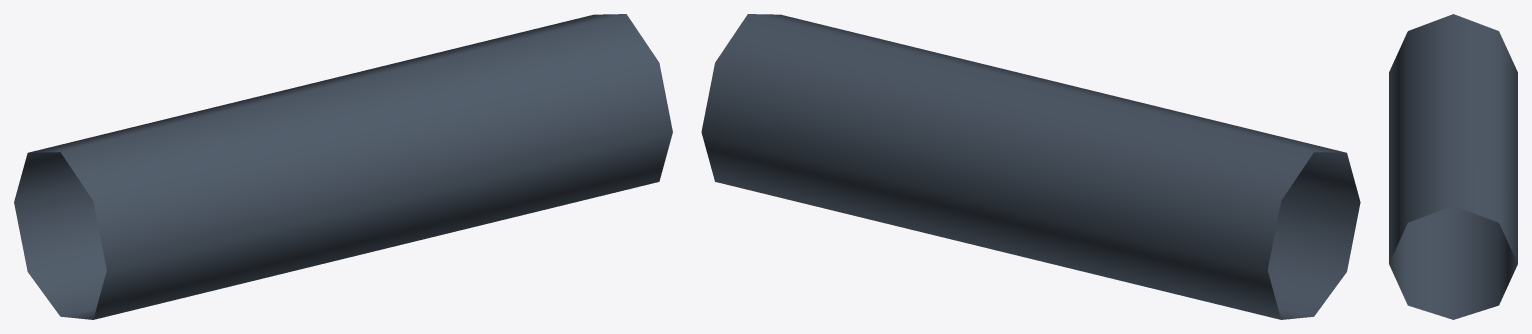
The model's file is Pipe_1_A_1_1.fbx.
3 views of the same model, side by side, from view 1: azimuth 30°, elevation 25°; view 2: azimuth 150°, elevation 25°; view 3: azimuth 270°, elevation 25° (orthographic). The views are drawn at different scales.
Parts seen in each view (by area): view 1: Pipe_1_A_1_1; view 2: Pipe_1_A_1_1; view 3: Pipe_1_A_1_1.
Boxes of the visible parts, x1,y1,x2,y2 form: Pipe_1_A_1_1: (14, 14, 672, 319); Pipe_1_A_1_1: (701, 14, 1360, 319); Pipe_1_A_1_1: (1389, 14, 1517, 319).
Bounding box in the file's own units: 76.72 × 21.31 × 21.8.
